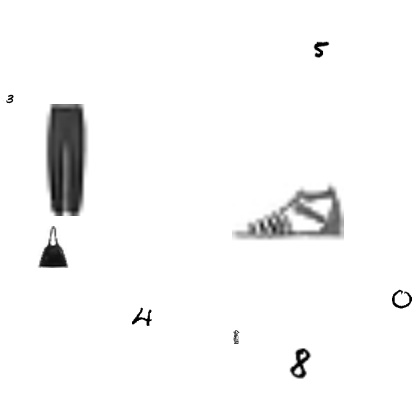0: (387, 285, 415, 313)
3: (3, 92, 17, 106)
4: (128, 303, 156, 331)
5: (309, 37, 331, 59)
8: (278, 341, 320, 383)
Bag: (32, 226, 74, 268)
Dress: (229, 330, 243, 344)
Sandal: (232, 155, 344, 267)
Trouser: (11, 104, 123, 216)
